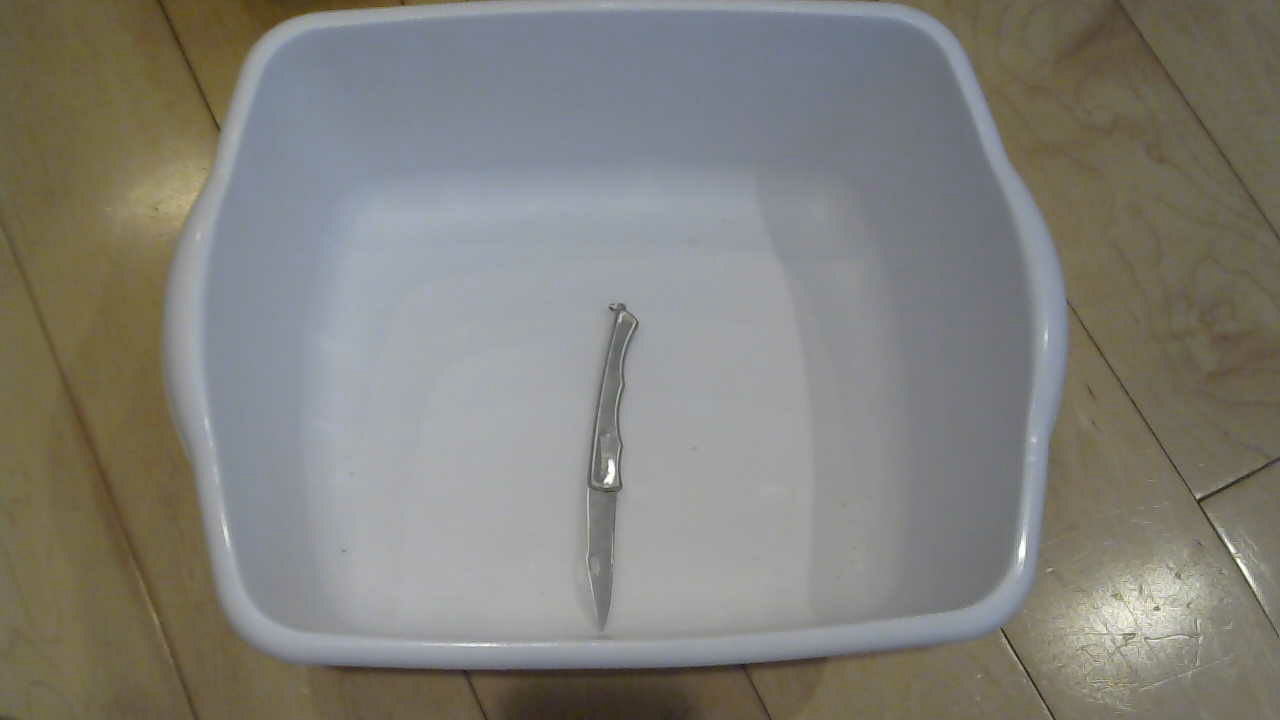knife: (574, 306, 653, 640)
